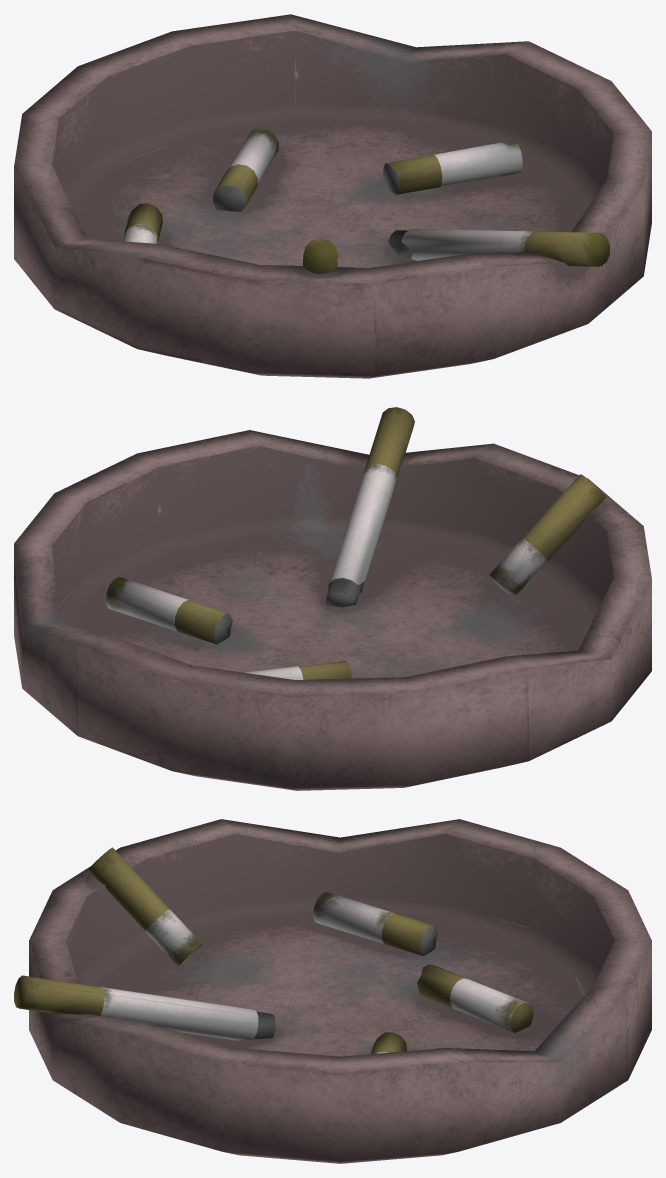
File: ashtray_intro.gltf
3 renders of one model, top to bottom at view 1: azimuth 30°, elevation 25°; view 2: azimuth 150°, elevation 25°; view 3: azimuth 270°, elevation 25°, orthographic. The views are drawn at different scales.
Parts seen in each view (by area): view 1: ashtray.001; view 2: ashtray.001; view 3: ashtray.001.
Part boxes in pixels (box(x1,y1,x2,y2)): ashtray.001: box(14, 14, 651, 378); ashtray.001: box(14, 407, 651, 790); ashtray.001: box(14, 819, 651, 1163).
Bounding box in the file's own units: 1.85 × 0.4593 × 1.89.
Materials: 4 (4 with a texture image).
